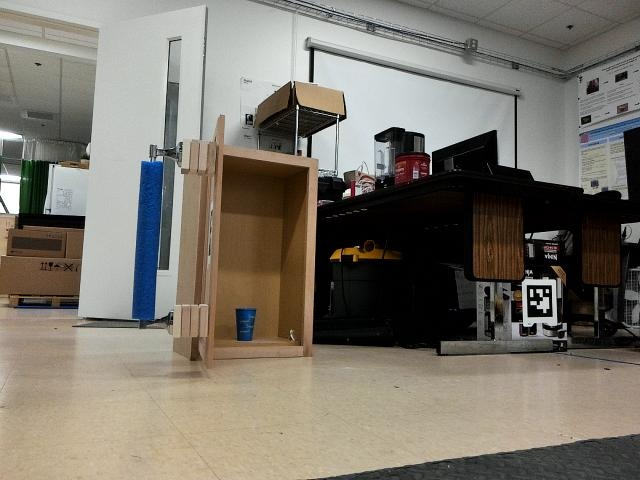noodle_handle: (128, 154, 166, 323)
water_cup: (232, 301, 258, 343)
